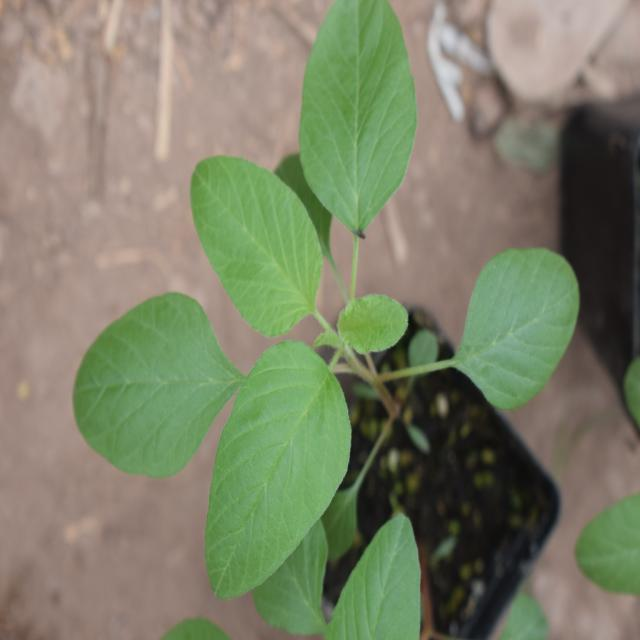pigweed: (56, 4, 554, 546)
